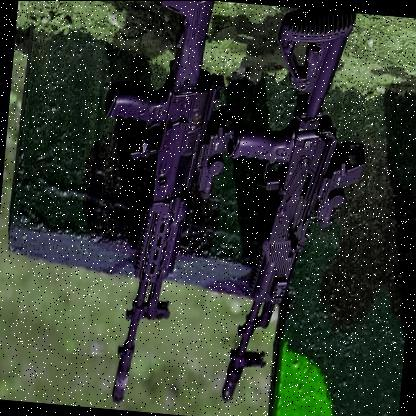rifle: (70, 0, 225, 406), (213, 7, 366, 414)
